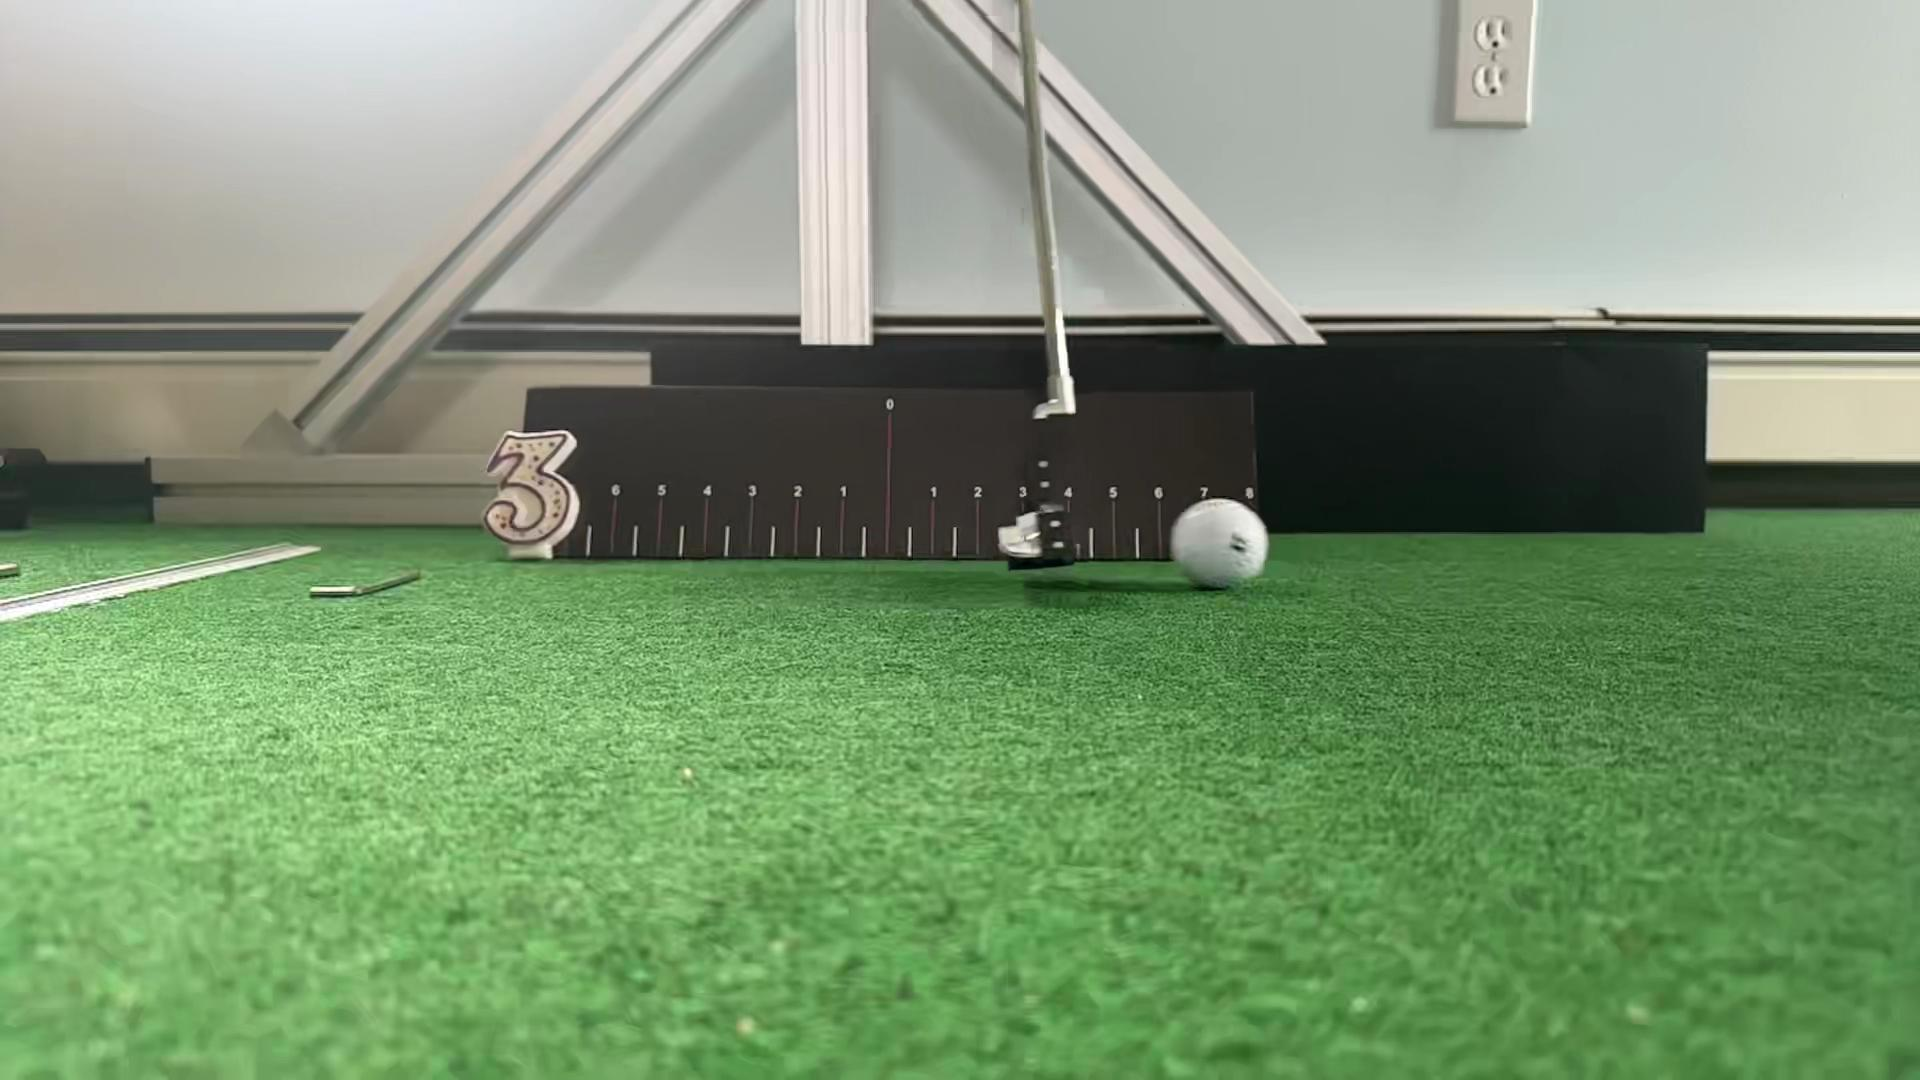golfball: (1171, 501, 1268, 588)
